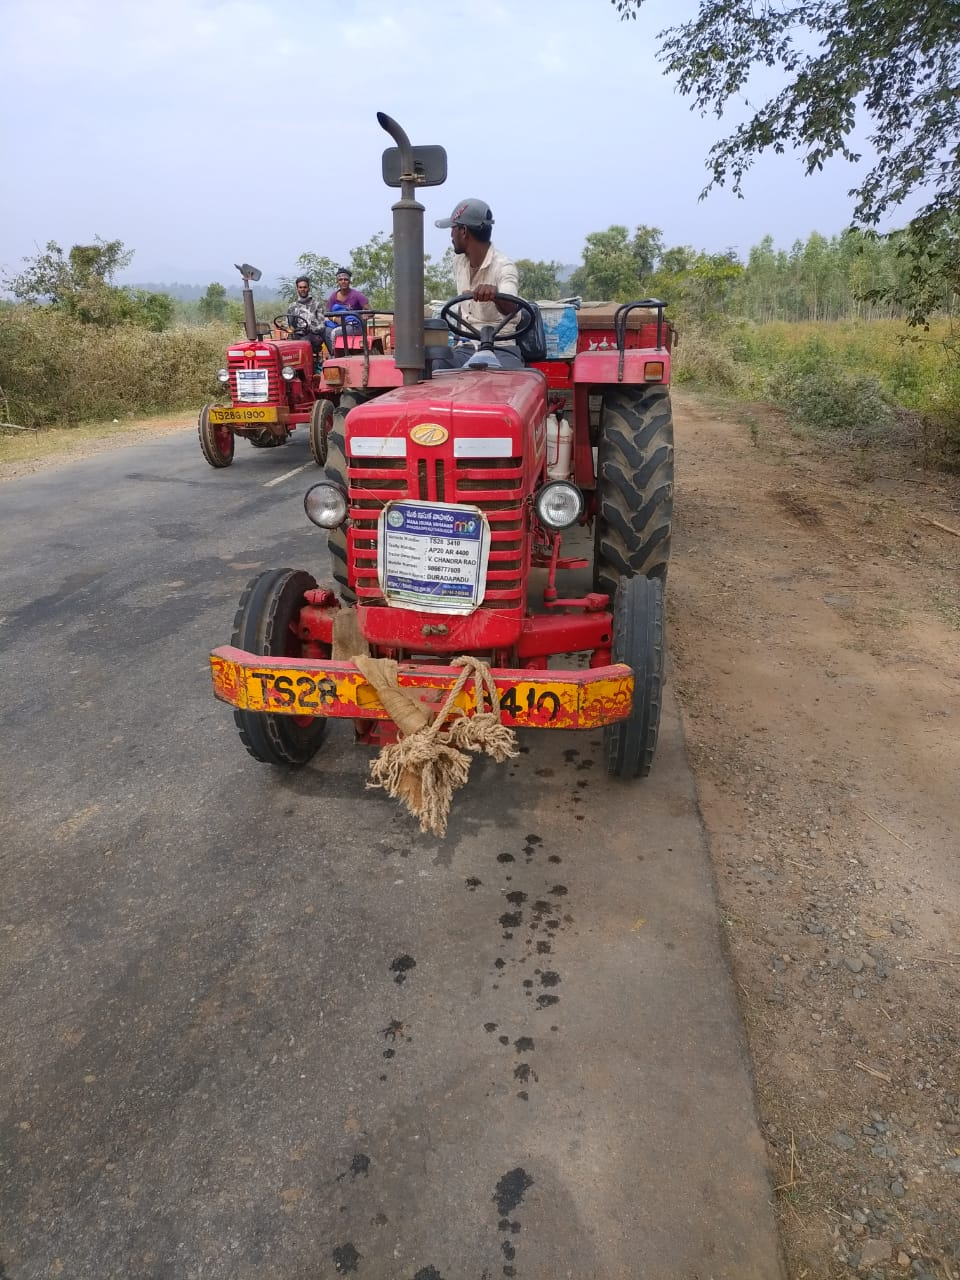license_plate: (249, 665, 571, 741)
